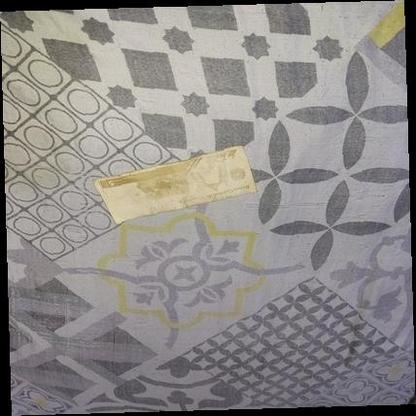five-back-vef: (92, 144, 256, 224)
